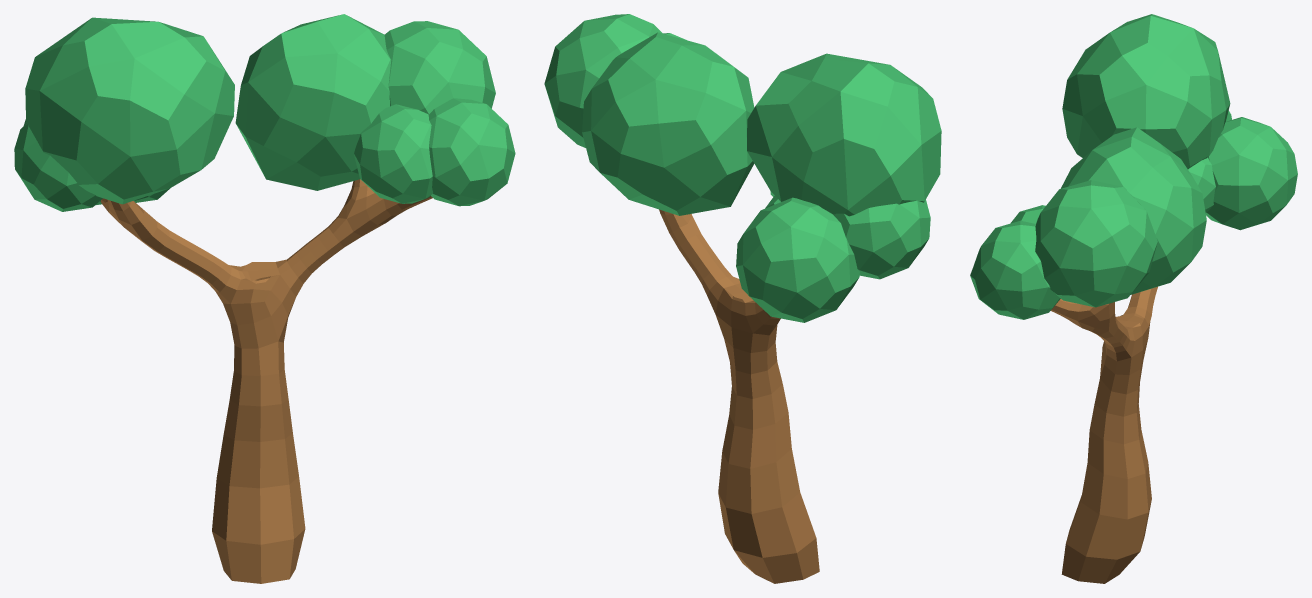
File: tree1.glb
3 views of the same model, side by side, from view 1: azimuth 30°, elevation 25°; view 2: azimuth 150°, elevation 25°; view 3: azimuth 270°, elevation 25° (orthographic). The views are drawn at different scales.
Parts seen in each view (by area): view 1: Tree1; view 2: Tree1; view 3: Tree1.
Part boxes in pixels (left/top/right/bottom): Tree1: left=14, top=14, right=515, bottom=583; Tree1: left=544, top=14, right=941, bottom=583; Tree1: left=970, top=14, right=1297, bottom=583.
Bounding box in the file's own units: 3.16 × 4.02 × 2.38.
